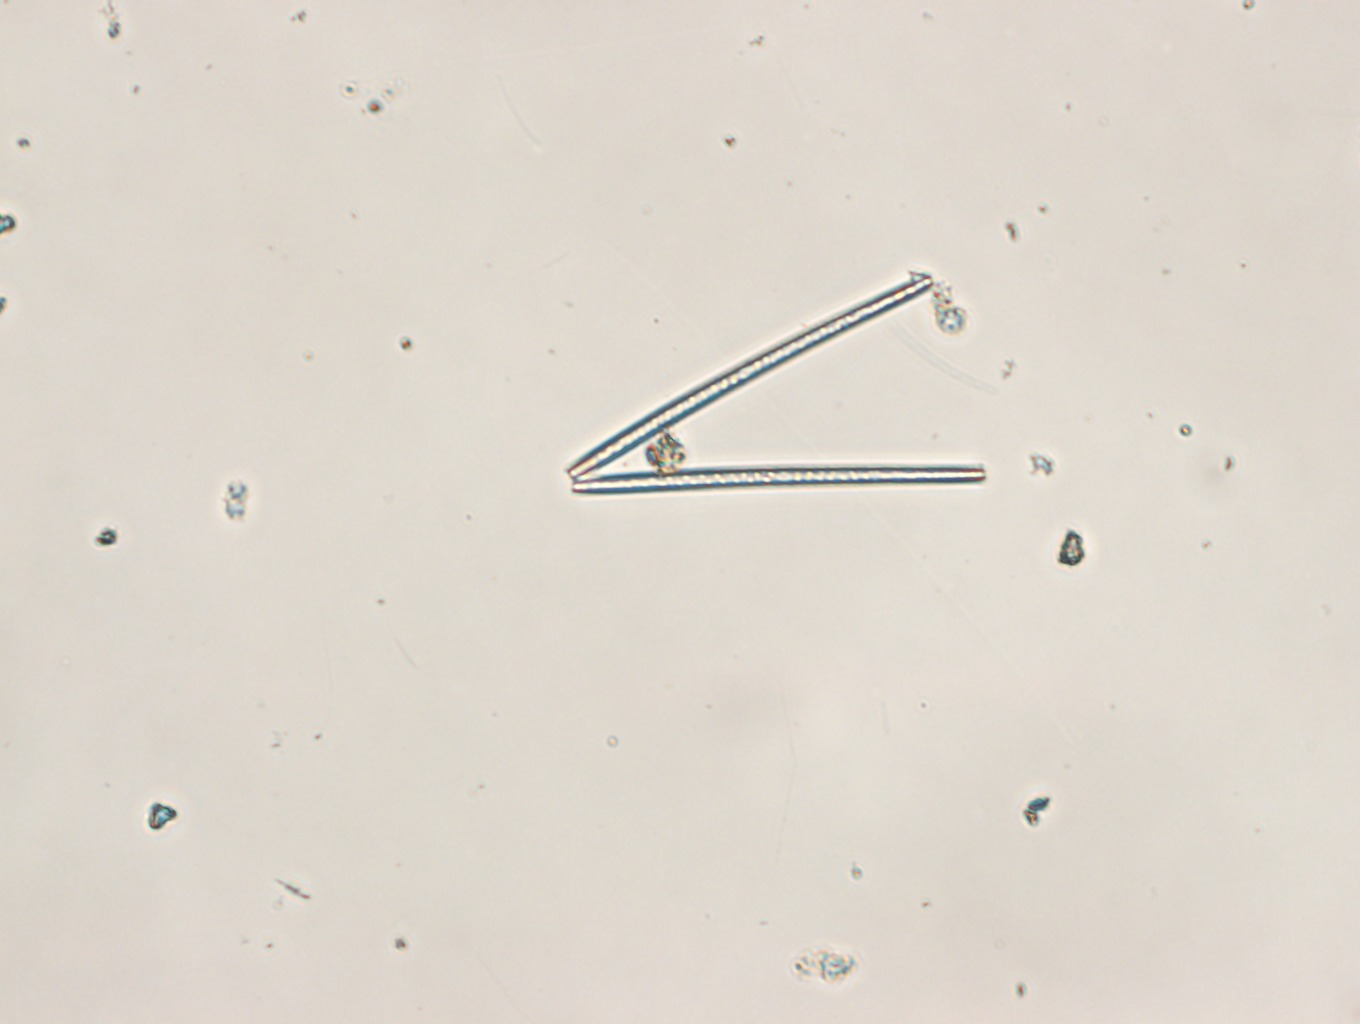thalassionema frauenfeldii: (561, 251, 993, 501)
